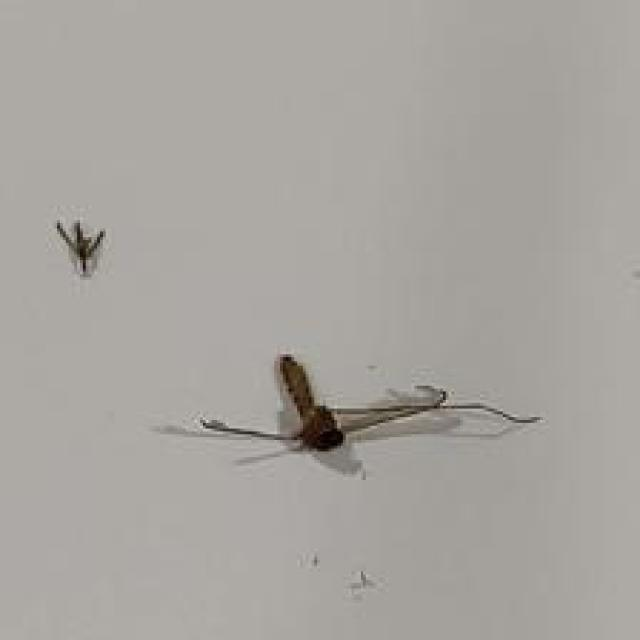Culex: (162, 351, 542, 480)
